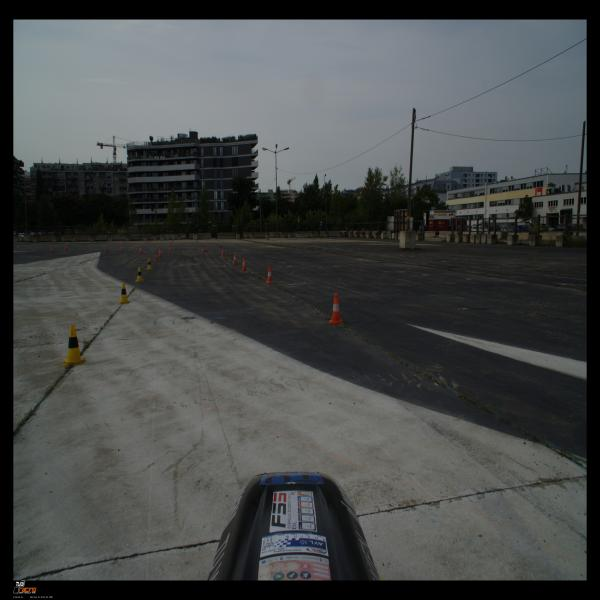orange_cone: (329, 293, 344, 325), (266, 266, 274, 283), (241, 258, 248, 271), (232, 253, 238, 264), (154, 251, 159, 262), (221, 248, 226, 258), (201, 246, 205, 254), (158, 248, 162, 256), (168, 244, 172, 252), (139, 246, 143, 254), (120, 244, 124, 251), (50, 245, 54, 252), (105, 245, 108, 252), (65, 245, 68, 251)
yellow_cone: (62, 324, 85, 367), (117, 282, 131, 304), (134, 267, 144, 282), (146, 258, 153, 270)
